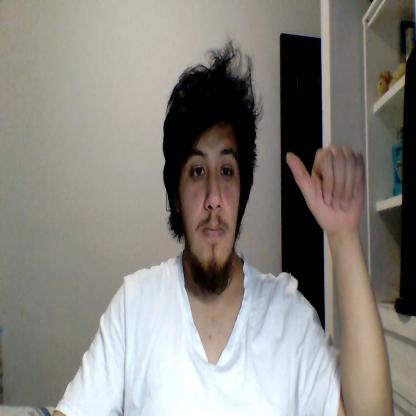A: (286, 146, 365, 231)
